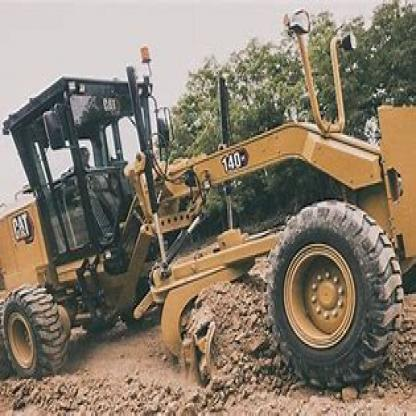bull_dozer/loader/grader: (11, 44, 414, 392)
